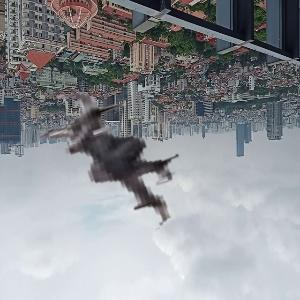drone: (22, 79, 199, 256)
